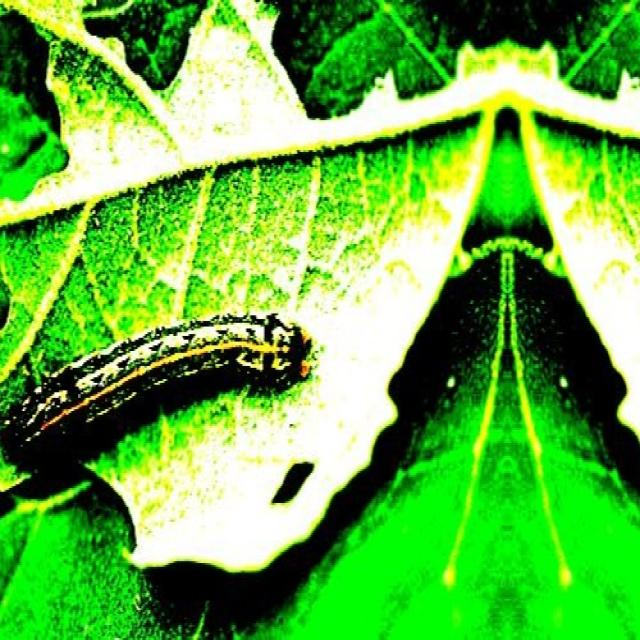Armyworm: (3, 291, 321, 475)
